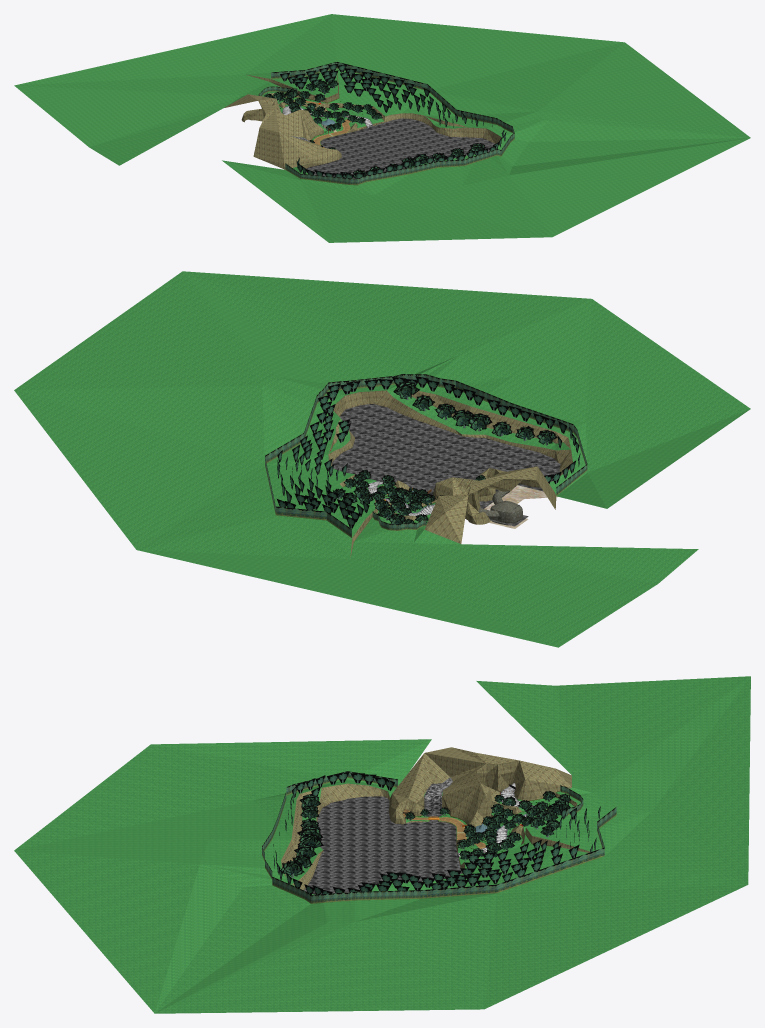
The picture shows the model from 3 angles, top to bottom: view 1: azimuth 30°, elevation 25°; view 2: azimuth 150°, elevation 25°; view 3: azimuth 270°, elevation 25°; orthographic projection. The views are drawn at different scales.
Parts seen in each view (by area): view 1: Grass.015, Rocks_out, lakewater_top, bgtrees, bg_trees, Tree_leaves; view 2: Grass.015, lakewater_top, Rocks_out, bgtrees, Tree_leaves, bg_trees, cave.002, lakebottom.001; view 3: Grass.015, Rocks_out, lakewater_top, bgtrees, Tree_leaves, bg_trees, waterfall.008.
Part boxes in pixels (box(x1,y1,x2,y2)): Grass.015: box(14, 14, 750, 242); Rocks_out: box(224, 69, 501, 169); lakewater_top: box(306, 118, 495, 178); bgtrees: box(280, 63, 506, 178); bg_trees: box(258, 62, 514, 185); Tree_leaves: box(264, 79, 485, 178); Grass.015: box(14, 271, 750, 647); lakewater_top: box(332, 404, 560, 526); Rocks_out: box(328, 390, 572, 557); bgtrees: box(277, 376, 580, 528); Tree_leaves: box(333, 380, 557, 524); bg_trees: box(265, 374, 587, 537); cave.002: box(478, 490, 522, 525); lakebottom.001: box(484, 485, 557, 528); Grass.015: box(14, 676, 750, 1013); Rocks_out: box(281, 747, 590, 890); lakewater_top: box(304, 796, 461, 894); bgtrees: box(273, 772, 600, 895); Tree_leaves: box(280, 791, 571, 876); bg_trees: box(262, 771, 616, 903); waterfall.008: box(424, 777, 458, 857).
Bounding box in the file's own units: 434826 × 30654 × 416879.
Materials: 38 (38 with a texture image).
